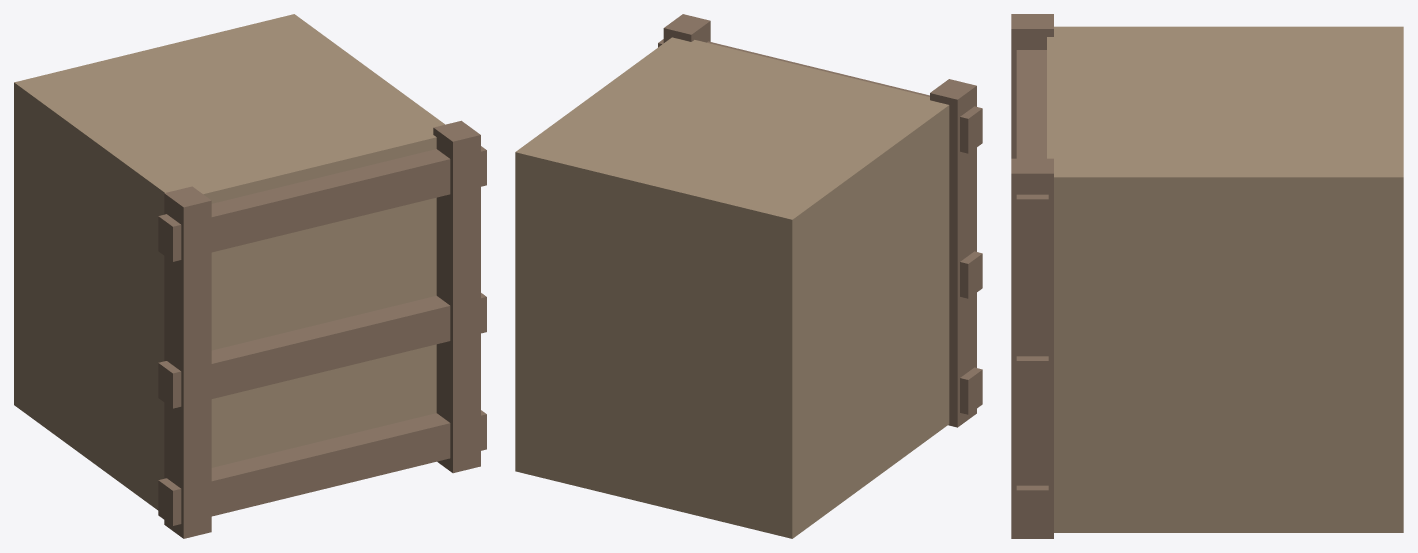
File: caixote.glb
The picture shows the model from 3 angles, left to right: view 1: azimuth 30°, elevation 25°; view 2: azimuth 150°, elevation 25°; view 3: azimuth 270°, elevation 25°; orthographic projection. The views are drawn at different scales.
Parts seen in each view (by area): view 1: part_000, part_004, part_005, part_001, part_002, part_003; view 2: part_000, part_004, part_003, part_005, part_001, part_002; view 3: part_000, part_005, part_003, part_004, part_002, part_001.
Part boxes in pixels (x1=…): part_000: x1=14, y1=14, x2=444, y2=510; part_004: x1=164, y1=186, x2=211, y2=538; part_005: x1=433, y1=120, x2=480, y2=473; part_001: x1=158, y1=410, x2=486, y2=525; part_002: x1=158, y1=293, x2=486, y2=408; part_003: x1=158, y1=146, x2=486, y2=261; part_000: x1=515, y1=37, x2=949, y2=538; part_004: x1=930, y1=79, x2=976, y2=427; part_003: x1=658, y1=39, x2=982, y2=153; part_005: x1=663, y1=14, x2=710, y2=42; part_001: x1=960, y1=367, x2=982, y2=414; part_002: x1=960, y1=251, x2=982, y2=298; part_000: x1=1047, y1=26, x2=1403, y2=532; part_005: x1=1011, y1=158, x2=1053, y2=538; part_003: x1=1016, y1=50, x2=1048, y2=237; part_004: x1=1011, y1=14, x2=1053, y2=158; part_002: x1=1016, y1=356, x2=1048, y2=399; part_001: x1=1016, y1=485, x2=1048, y2=528.
Size of the model in its own units: 1.12 by 1.13 by 1.1.
